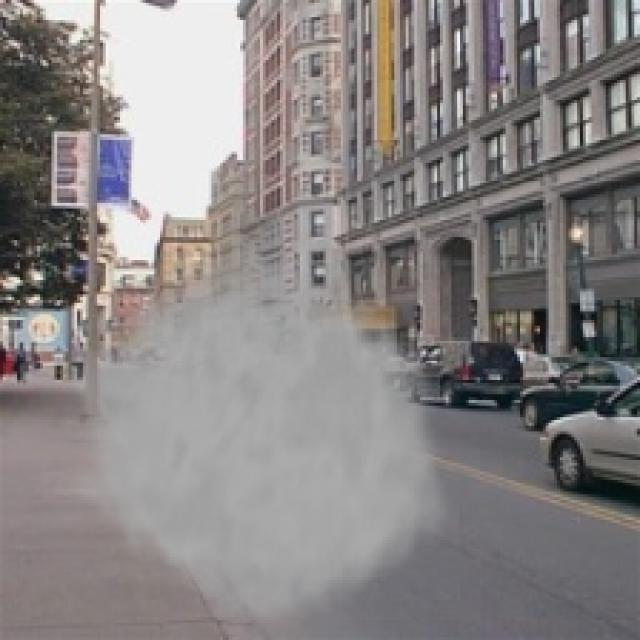smoke: (68, 234, 463, 637)
